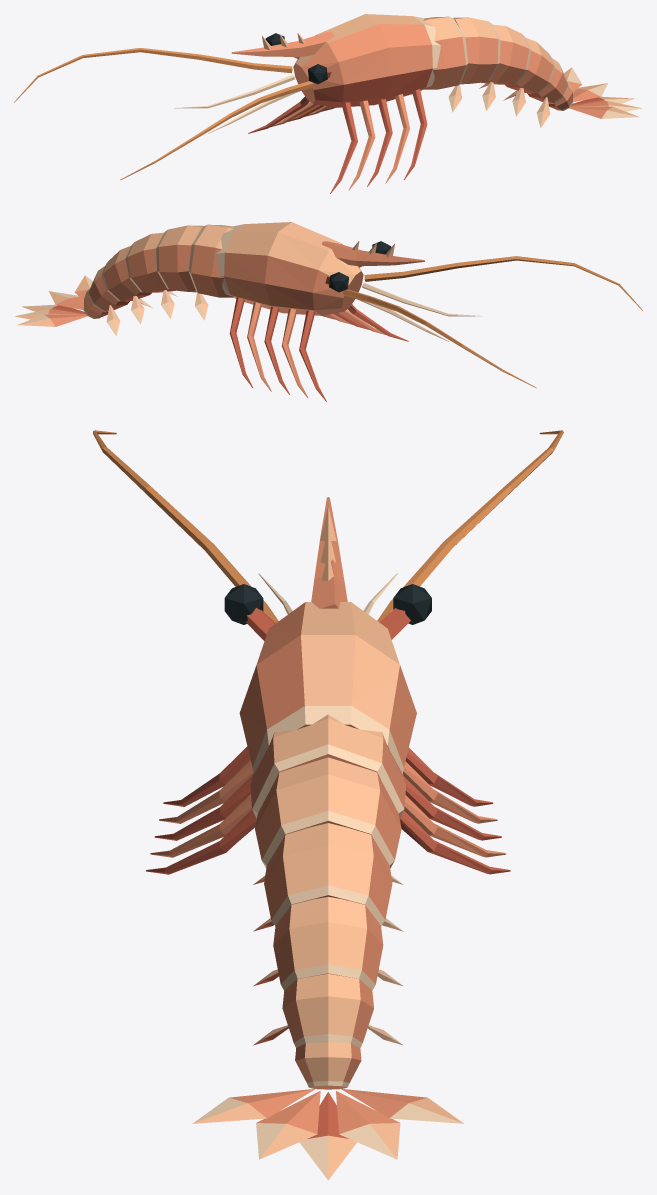
The model's file is low_poly_shrimp.fbx.
3 views of the same model, one above another, from view 1: azimuth 30°, elevation 25°; view 2: azimuth 150°, elevation 25°; view 3: azimuth 270°, elevation 25° (orthographic). The views are drawn at different scales.
Parts seen in each view (by area): view 1: Low_Poly_Shrimp; view 2: Low_Poly_Shrimp; view 3: Low_Poly_Shrimp.
Part boxes in pixels (x1,y1,x2,y2): Low_Poly_Shrimp: (14, 14, 641, 193); Low_Poly_Shrimp: (15, 222, 642, 401); Low_Poly_Shrimp: (93, 430, 563, 1180).
Bounding box in the file's own units: 20.04 × 5.18 × 7.19.
